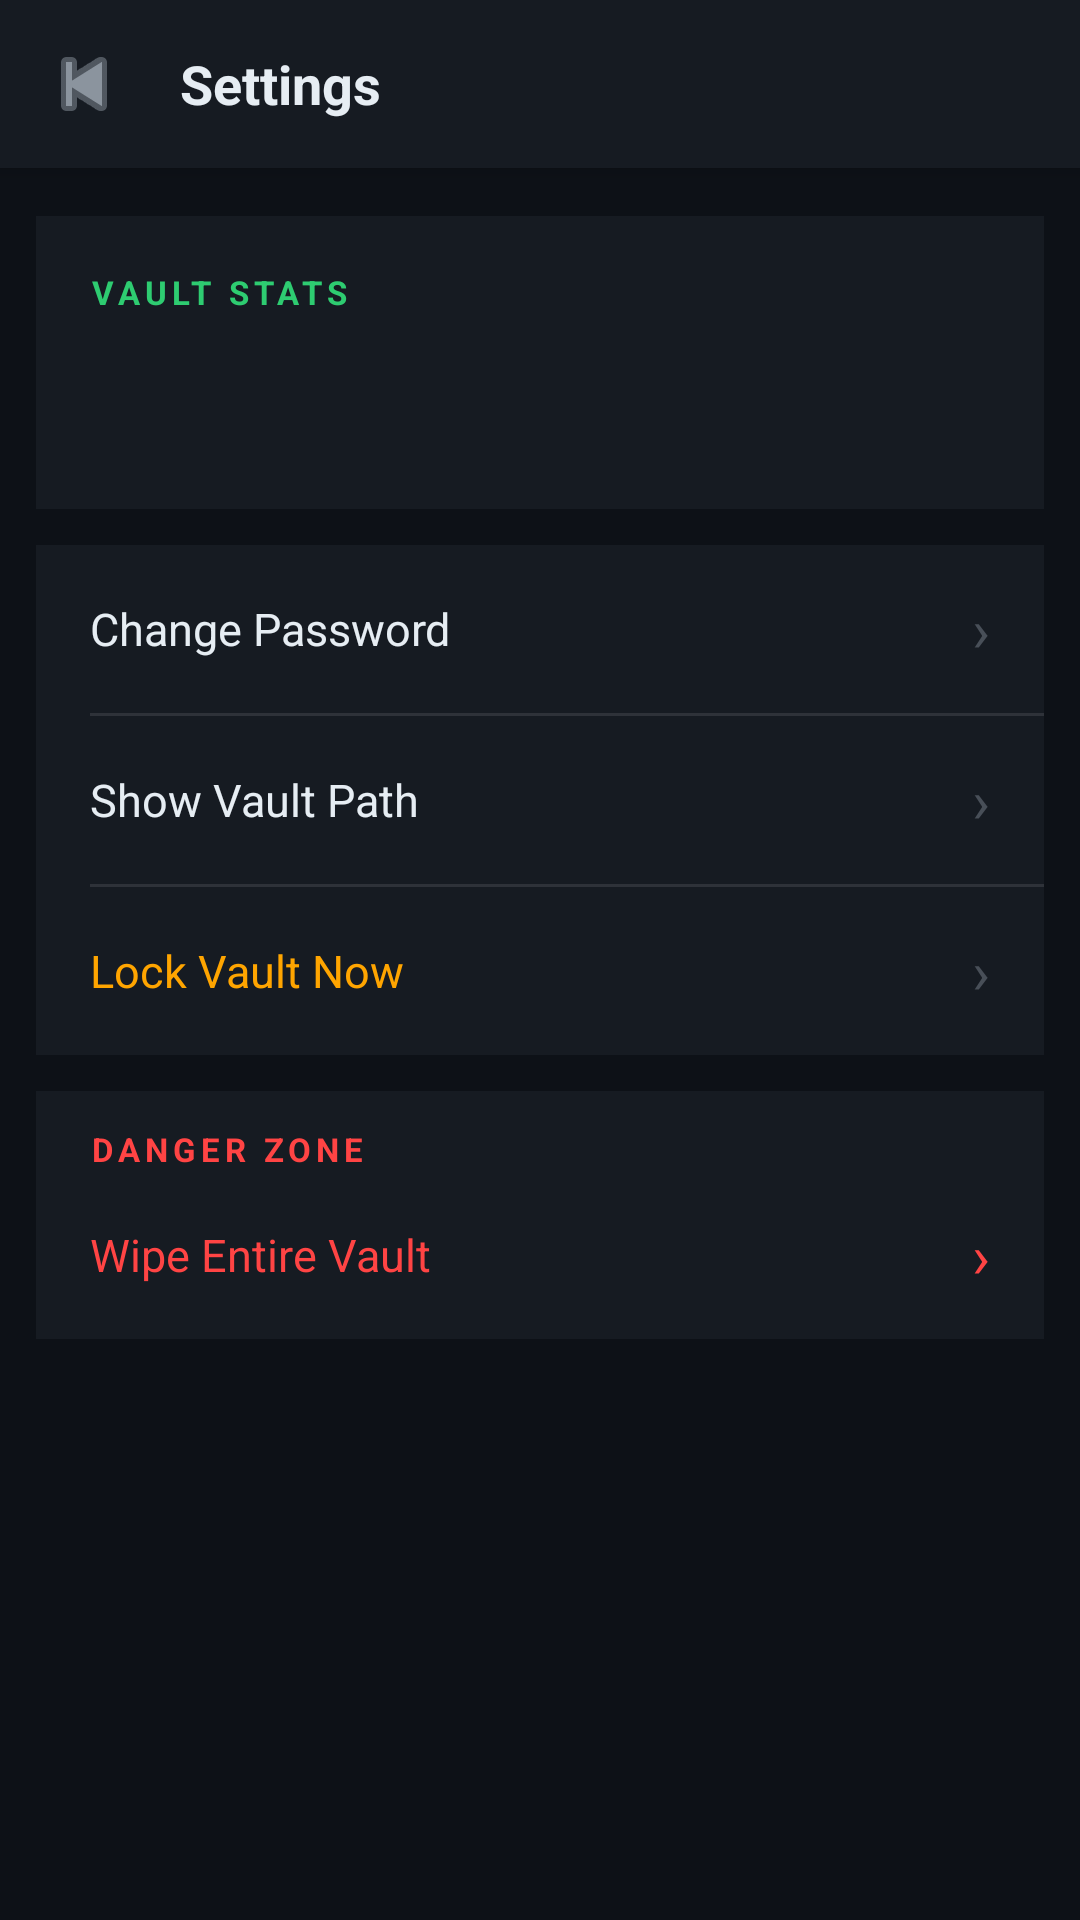

Screen size 1080x1920. Icon name, then its box in pixels as (x1, y1, x2, y2):
previous: (61, 57, 107, 111)
